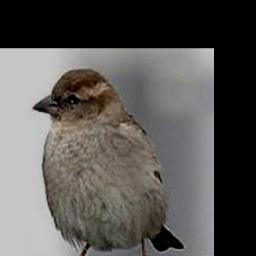Sparrow: (32, 67, 185, 256)
